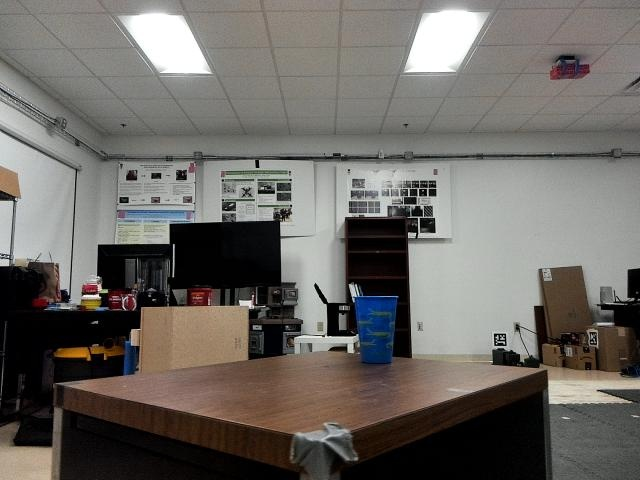water_cup: (350, 290, 406, 368)
